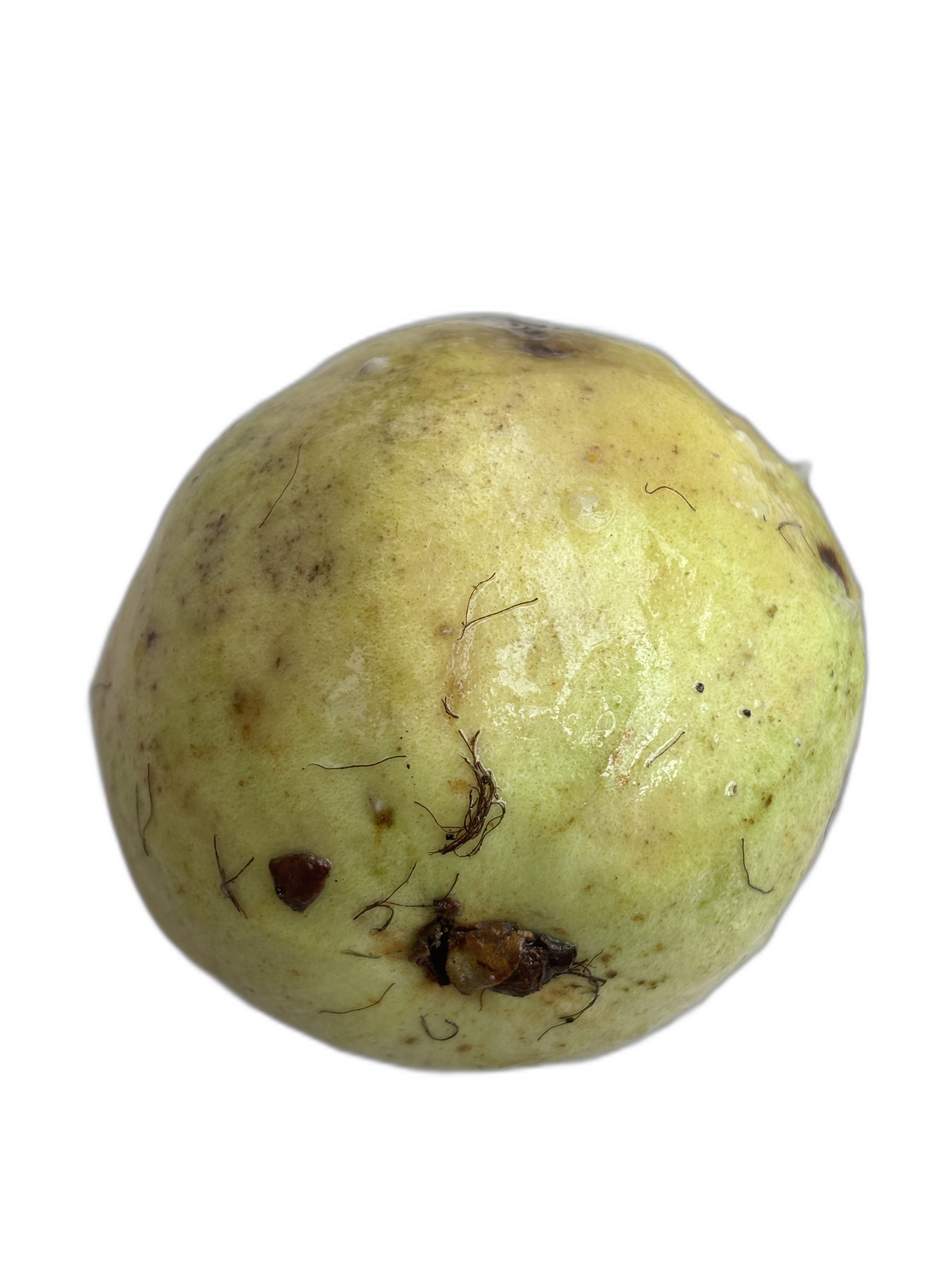guava: (123, 317, 932, 1158)
